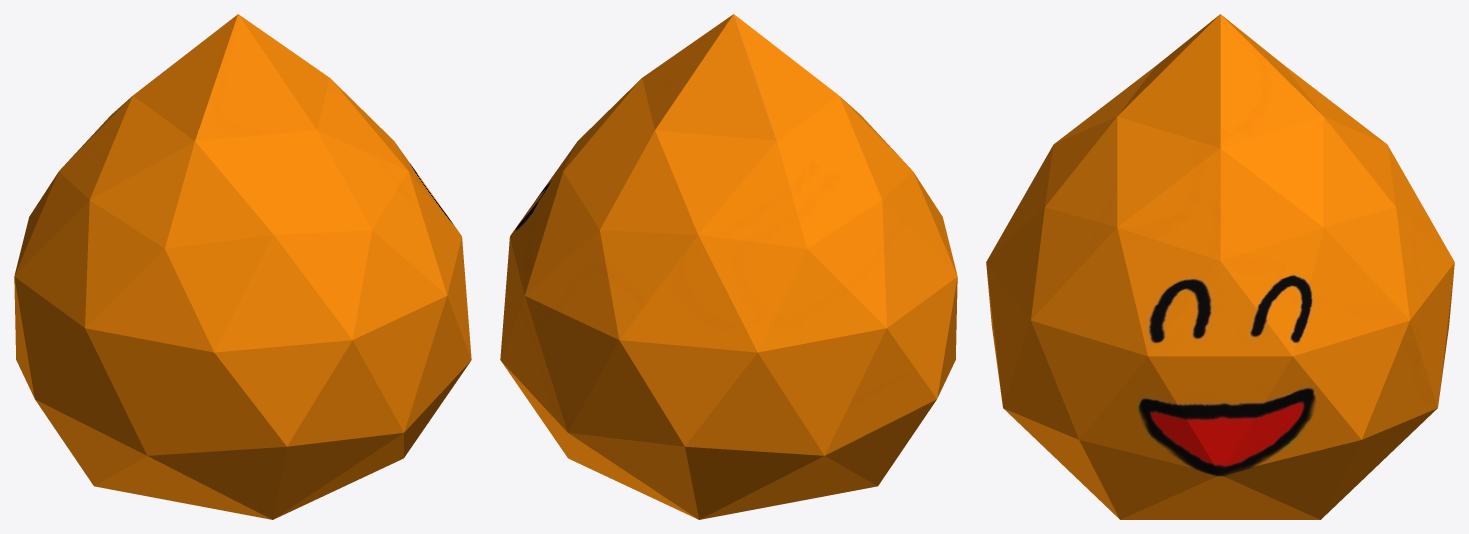
Rendered from OrangeSlime.fbx.
3 renders of one model, left to right at view 1: azimuth 30°, elevation 25°; view 2: azimuth 150°, elevation 25°; view 3: azimuth 270°, elevation 25°, orthographic. The views are drawn at different scales.
Visible parts, largest first — view 1: Icosphere; view 2: Icosphere; view 3: Icosphere.
Part boxes in pixels (x1,y1,x2,y2): Icosphere: (14, 14, 471, 519); Icosphere: (500, 14, 957, 519); Icosphere: (986, 14, 1454, 519).
Size of the model in its own units: 213 by 248 by 213.
